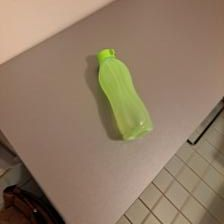bottle: (89, 48, 155, 141)
